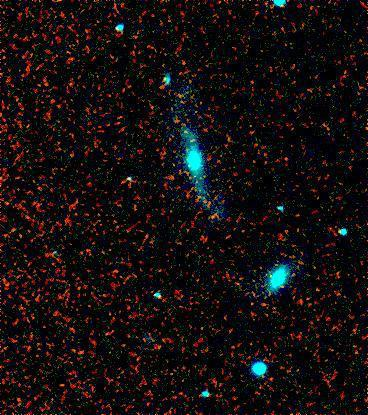star: (197, 199, 227, 229)
